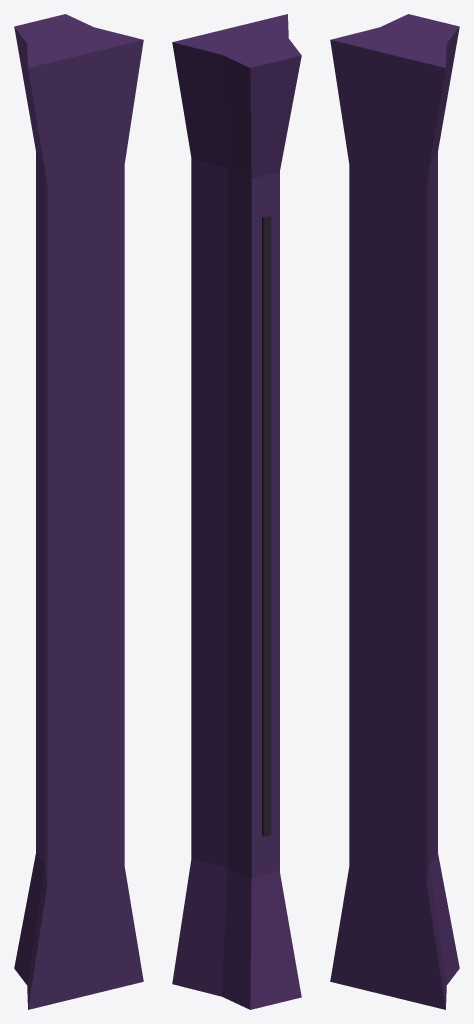
The model's file is SM_SB_Kit_AlienWindowMullion_580.fbx.
3 renders of one model, left to right at view 1: azimuth 30°, elevation 25°; view 2: azimuth 210°, elevation 25°; view 3: azimuth 330°, elevation 25°, orthographic.
Parts seen in each view (by area): view 1: SM_SB_Kit_AlienWindowMullion_580; view 2: SM_SB_Kit_AlienWindowMullion_580; view 3: SM_SB_Kit_AlienWindowMullion_580.
Part boxes in pixels (x1,y1,x2,y2): SM_SB_Kit_AlienWindowMullion_580: (14,14,143,1009); SM_SB_Kit_AlienWindowMullion_580: (172,14,301,1009); SM_SB_Kit_AlienWindowMullion_580: (330,14,459,1009).
Bounding box in the file's own units: 90 × 62 × 700.
